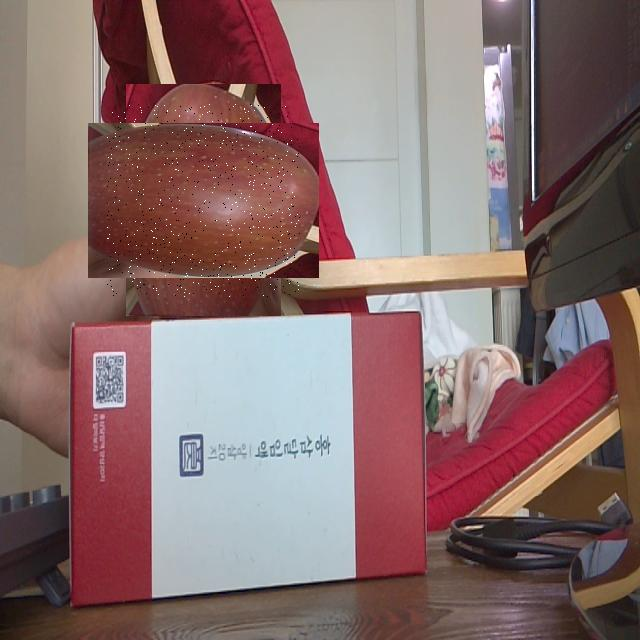apple: (107, 104, 300, 297)
